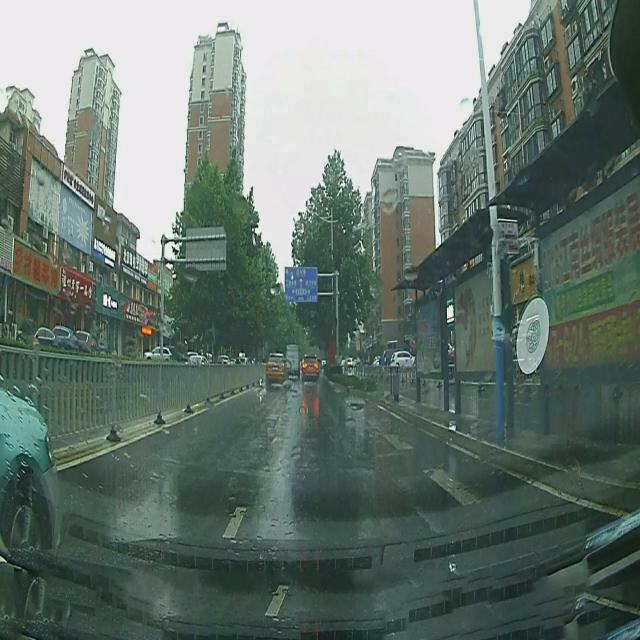car: (0, 380, 59, 552), (264, 353, 286, 386), (302, 357, 320, 383), (286, 342, 298, 378)
